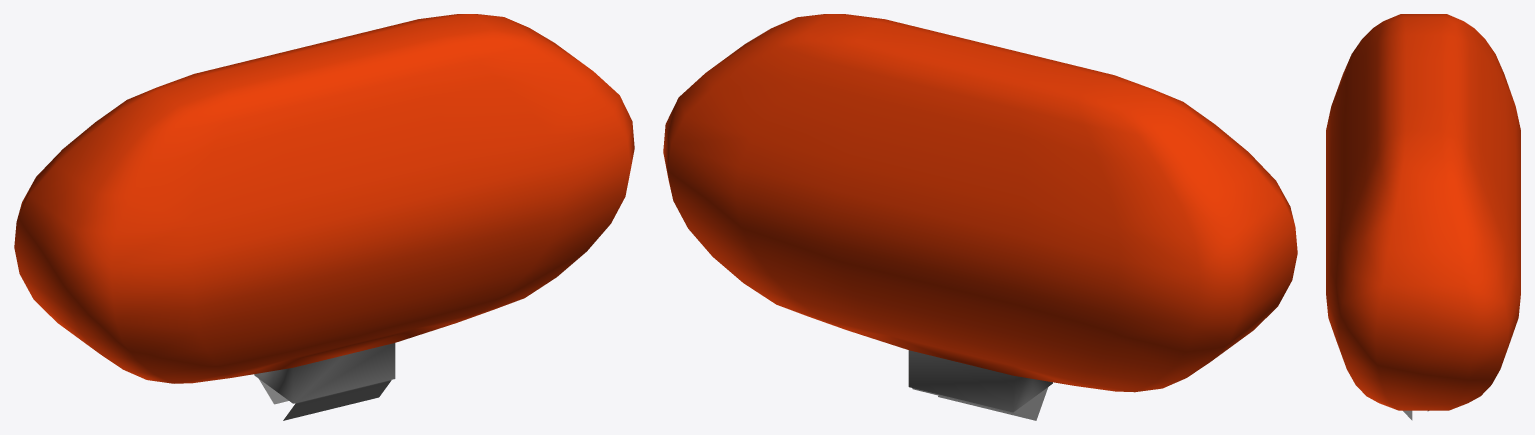
The model's file is MS_EnemyBlimp.fbx.
3 renders of one model, left to right at view 1: azimuth 30°, elevation 25°; view 2: azimuth 150°, elevation 25°; view 3: azimuth 270°, elevation 25°, orthographic. The views are drawn at different scales.
Parts seen in each view (by area): view 1: pCube1; view 2: pCube1; view 3: pCube1.
Boxes of the visible parts, x1,y1,x2,y2 form: pCube1: [14, 14, 634, 420]; pCube1: [663, 14, 1297, 420]; pCube1: [1326, 14, 1520, 420].
Bounding box in the file's own units: 33.32 × 19.61 × 10.94.
